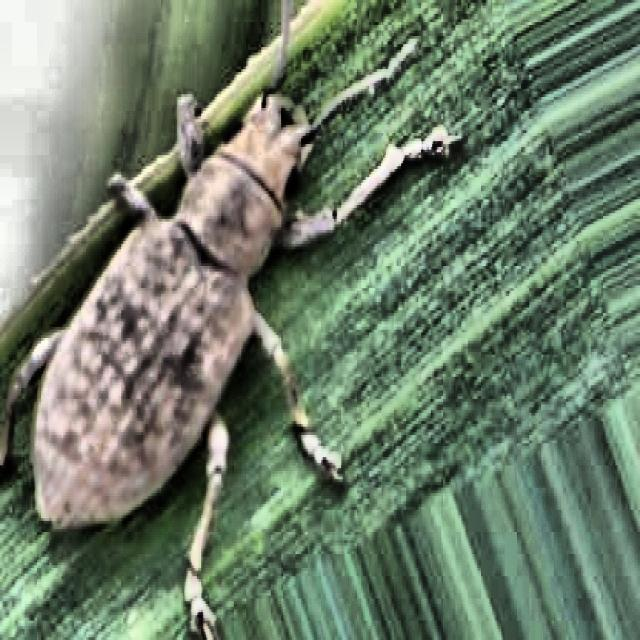Stink bug: (3, 11, 383, 621)
